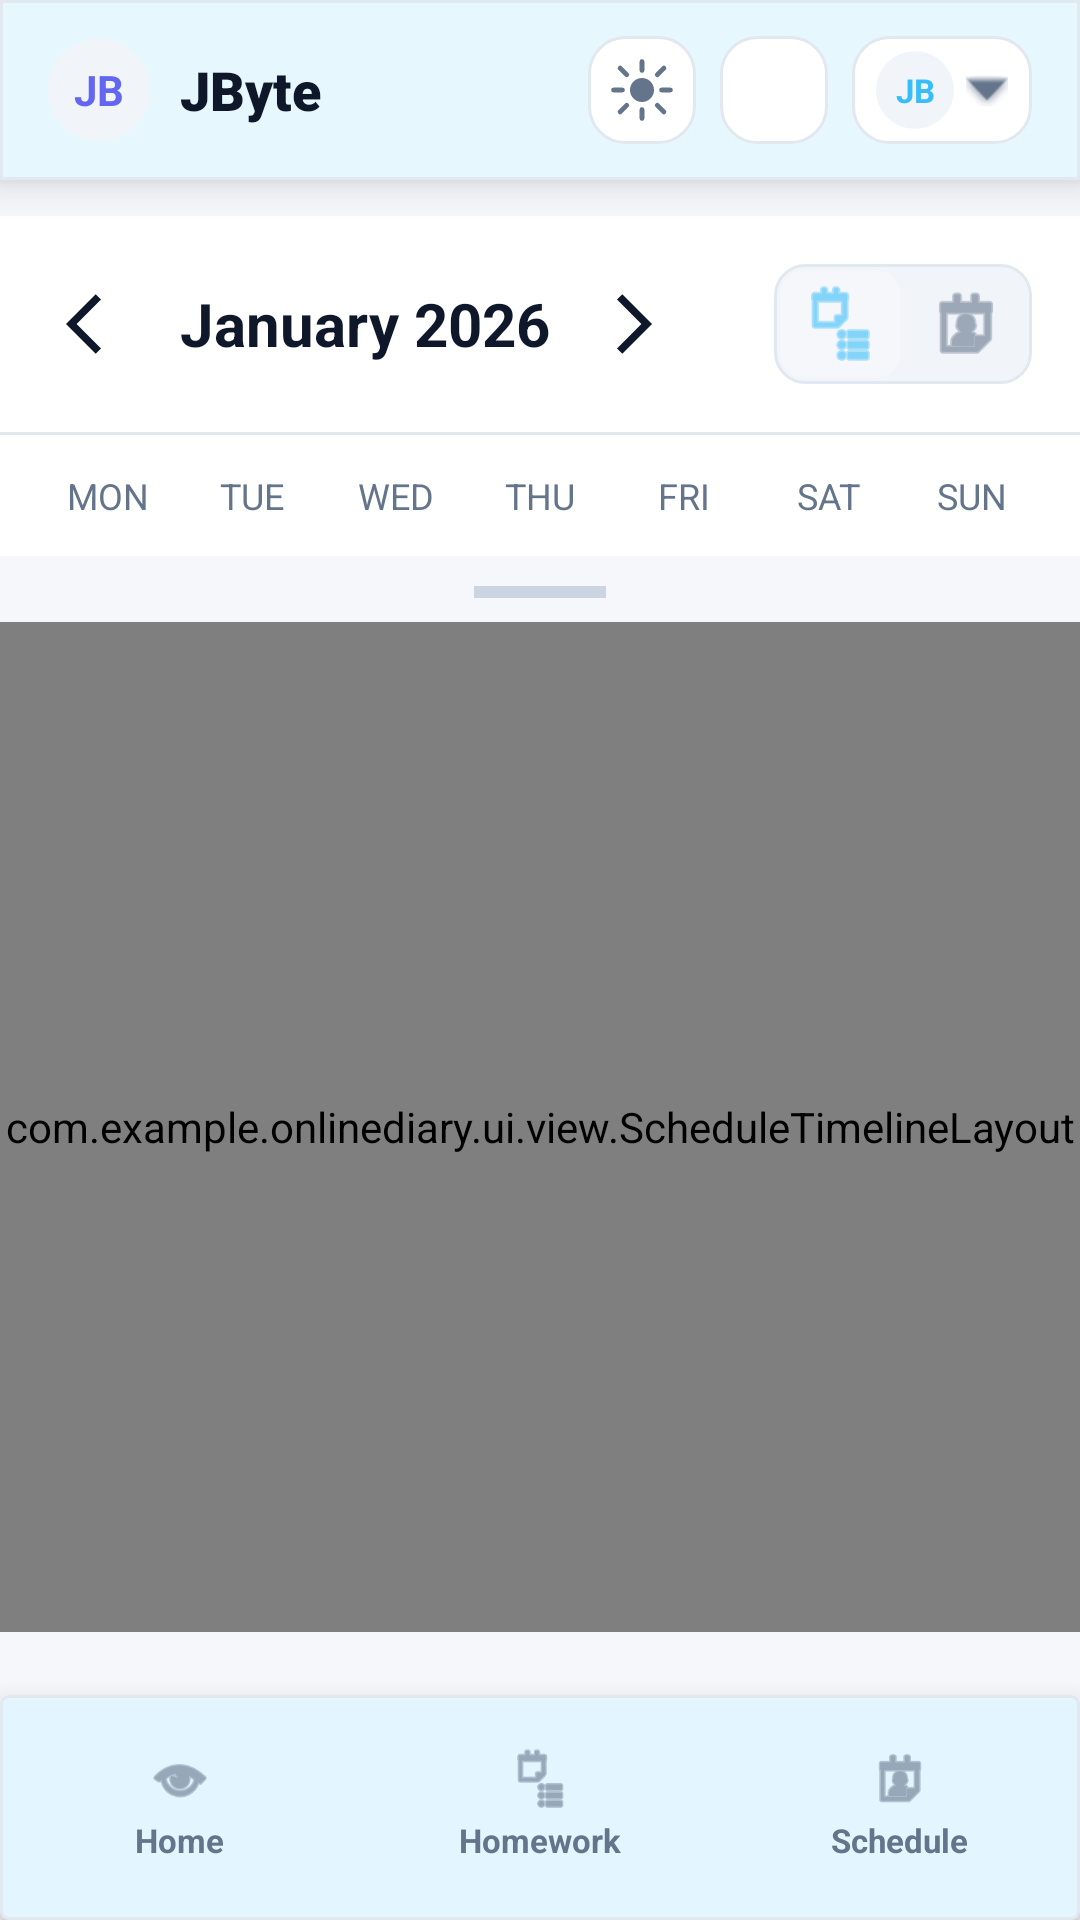

Where to tap for icons on this 1080 x 1920 app screen, as (x,y):
arrow down float: (987,90)
Month view: (966,323)
Previous month: (83,324)
Theme: (642,90)
Week view: (840,323)
